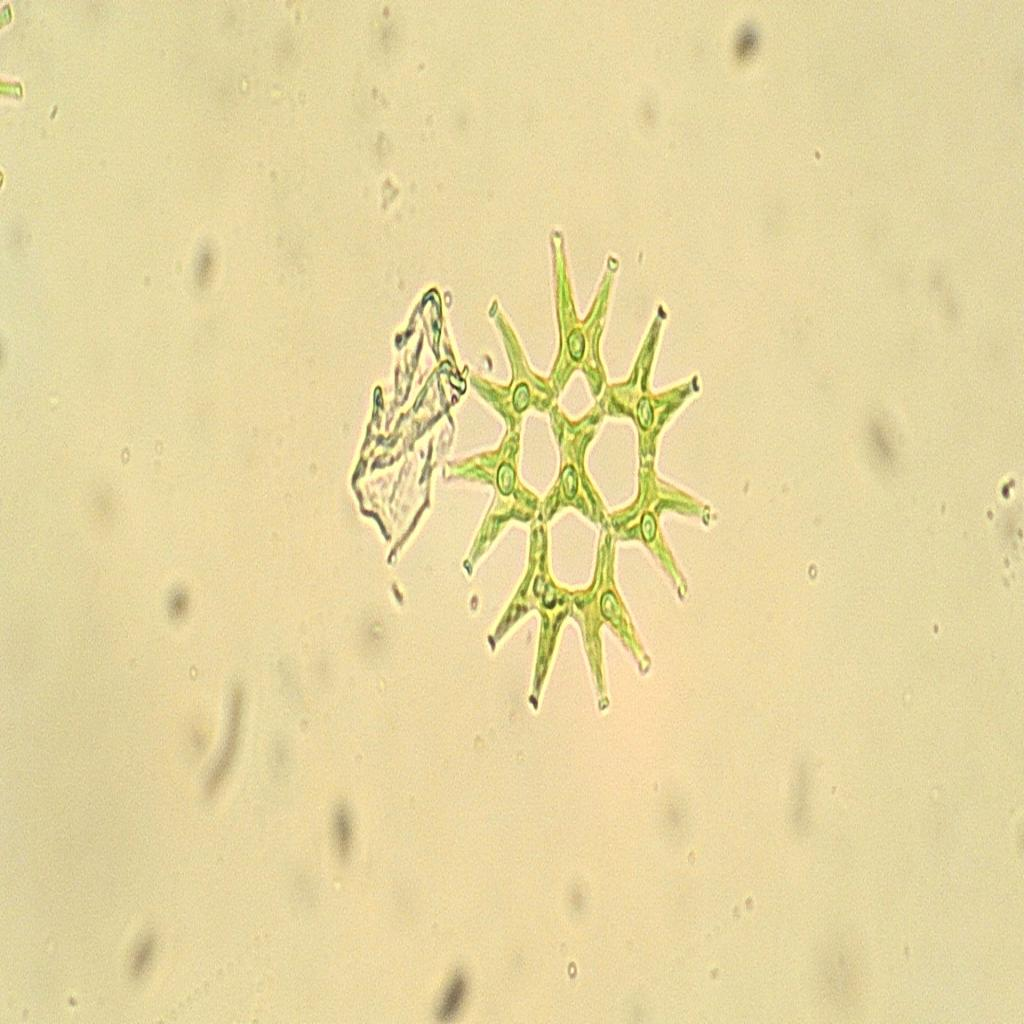Pediastrum_75T: (439, 211, 732, 743)
